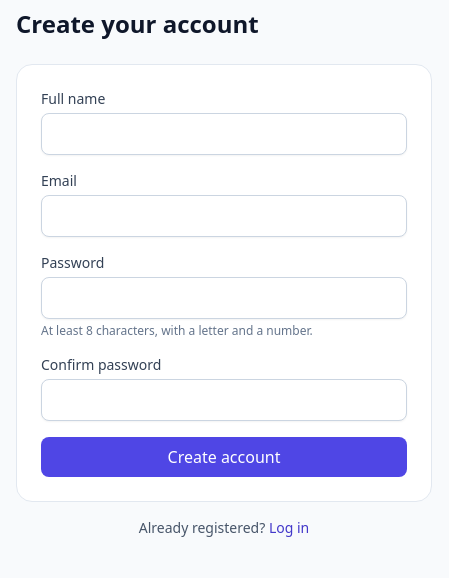
Test case: Register form › rejects mismatched passwords
The width and height of the screenshot is (449, 578).
Type "Asha Verma" into the field labelled "Full name".
click(224, 134); type("Asha Verma")  # box [41,113,407,155]
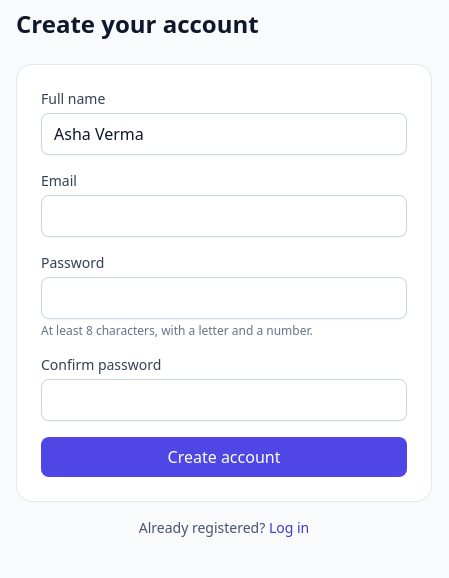
Type "asha@example.com" into the field labelled "Email".
click(224, 216); type("asha@example.com")  # box [41,195,407,237]
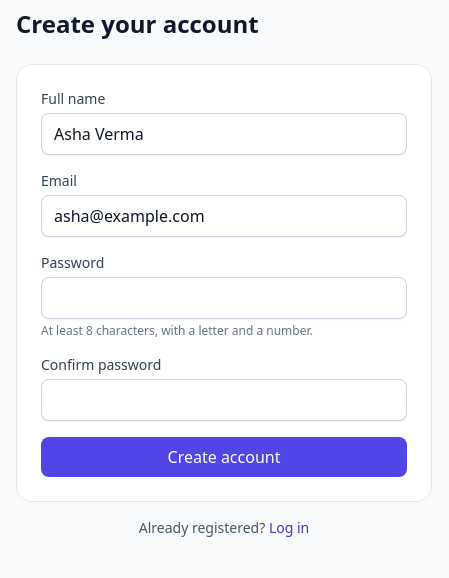
Type "Passw0rdOK" into the password field labelled "Password".
click(224, 298); type("Passw0rdOK")  # box [41,277,407,319]
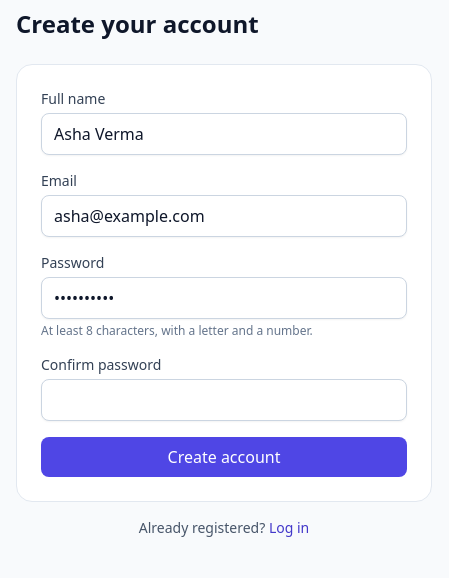
Type "Different1" into the password field labelled "Confirm password".
click(224, 400); type("Different1")  # box [41,379,407,421]
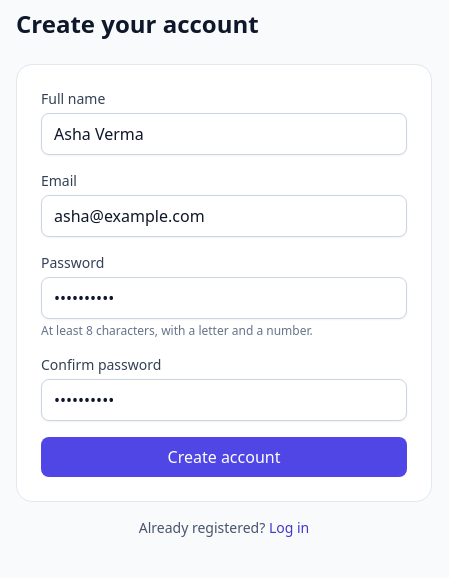
Click the button "Create account".
click(224, 457)  # box [41,437,407,477]
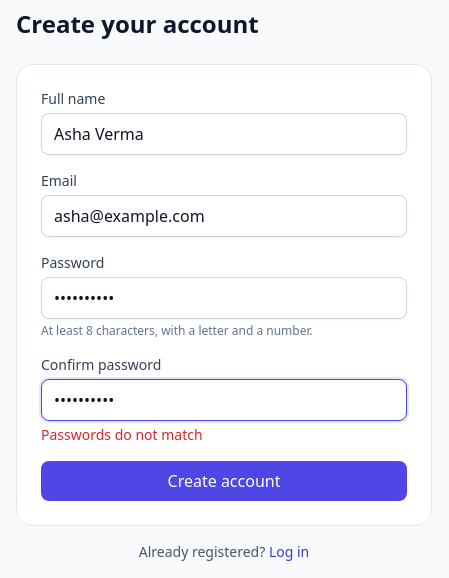
expect the text "Passwords do not match" is shown: met, box [41,425,203,444]
